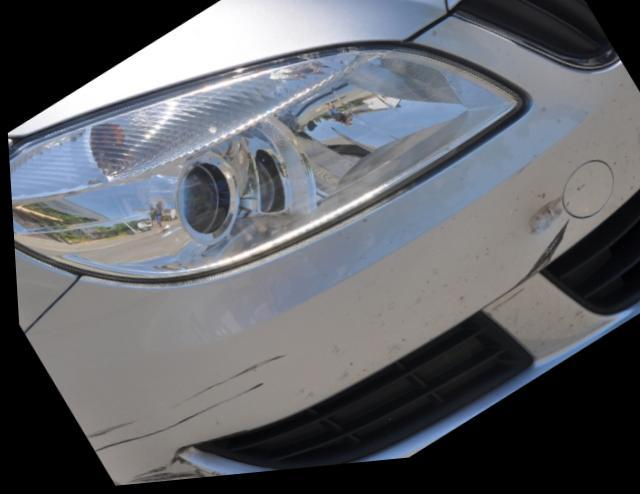scratch: (75, 357, 286, 487), (518, 228, 567, 292)
